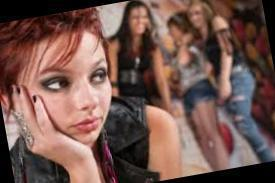Drunk: (37, 36, 113, 139)
